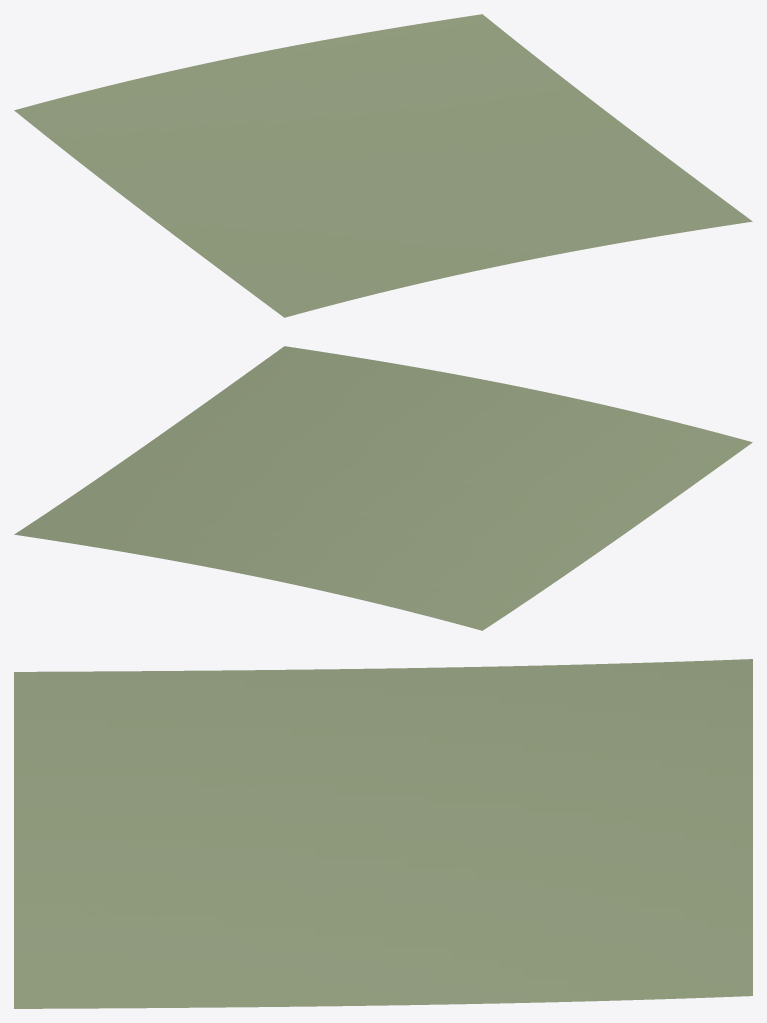
The model's file is valley-2-4.glb.
The picture shows the model from 3 angles, top to bottom: view 1: azimuth 30°, elevation 25°; view 2: azimuth 150°, elevation 25°; view 3: azimuth 270°, elevation 25°; orthographic projection. The views are drawn at different scales.
Parts seen in each view (by area): view 1: valley-2-4; view 2: valley-2-4; view 3: valley-2-4.
Part boxes in pixels (box(x1,y1,x2,y2)): valley-2-4: box(14, 14, 752, 317); valley-2-4: box(14, 346, 752, 630); valley-2-4: box(14, 659, 752, 1008).
Size of the model in its own units: 256 by 15.18 by 256.
